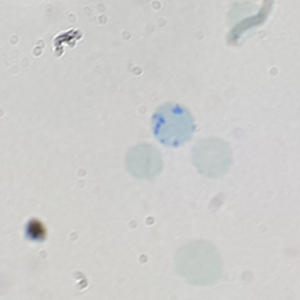aggregate reticulocyte: (148, 102, 197, 148)
erythrocyte: (173, 238, 226, 288), (189, 136, 235, 180), (123, 141, 166, 183)
